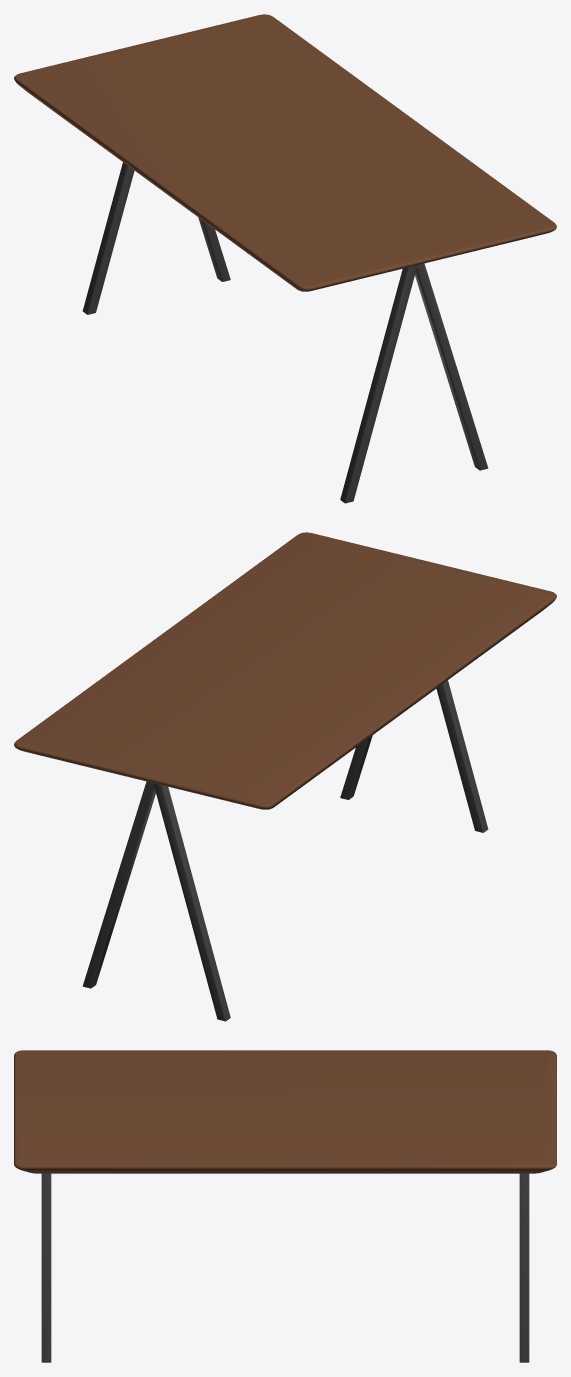
Rendered from KitchenTableV2.fbx.
3 renders of one model, top to bottom at view 1: azimuth 30°, elevation 25°; view 2: azimuth 150°, elevation 25°; view 3: azimuth 270°, elevation 25°, orthographic. The views are drawn at different scales.
Visible parts, largest first — view 1: tabletop, legs; view 2: tabletop, legs; view 3: tabletop, legs.
Part boxes in pixels (x1,y1,x2,y2): tabletop: [14, 14, 556, 291]; legs: [82, 162, 488, 503]; tabletop: [14, 532, 556, 809]; legs: [82, 680, 488, 1021]; tabletop: [14, 1050, 556, 1173]; legs: [41, 1173, 529, 1362].
Bounding box in the file's own units: 76.25 × 67.78 × 150.
